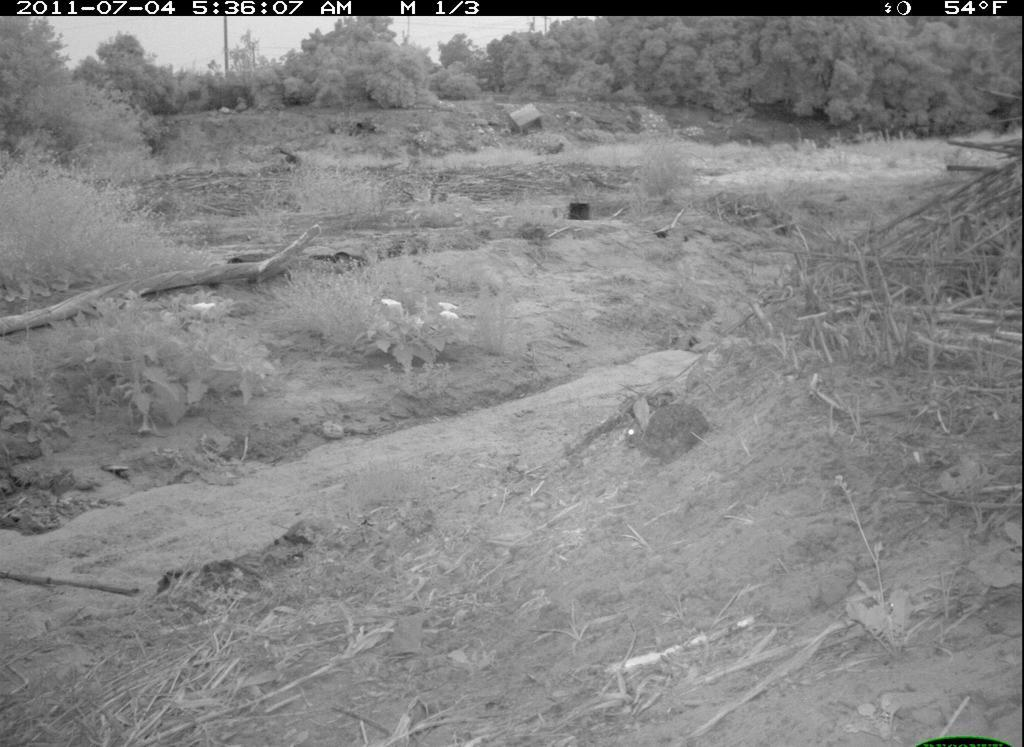rabbit: (615, 387, 723, 476)
